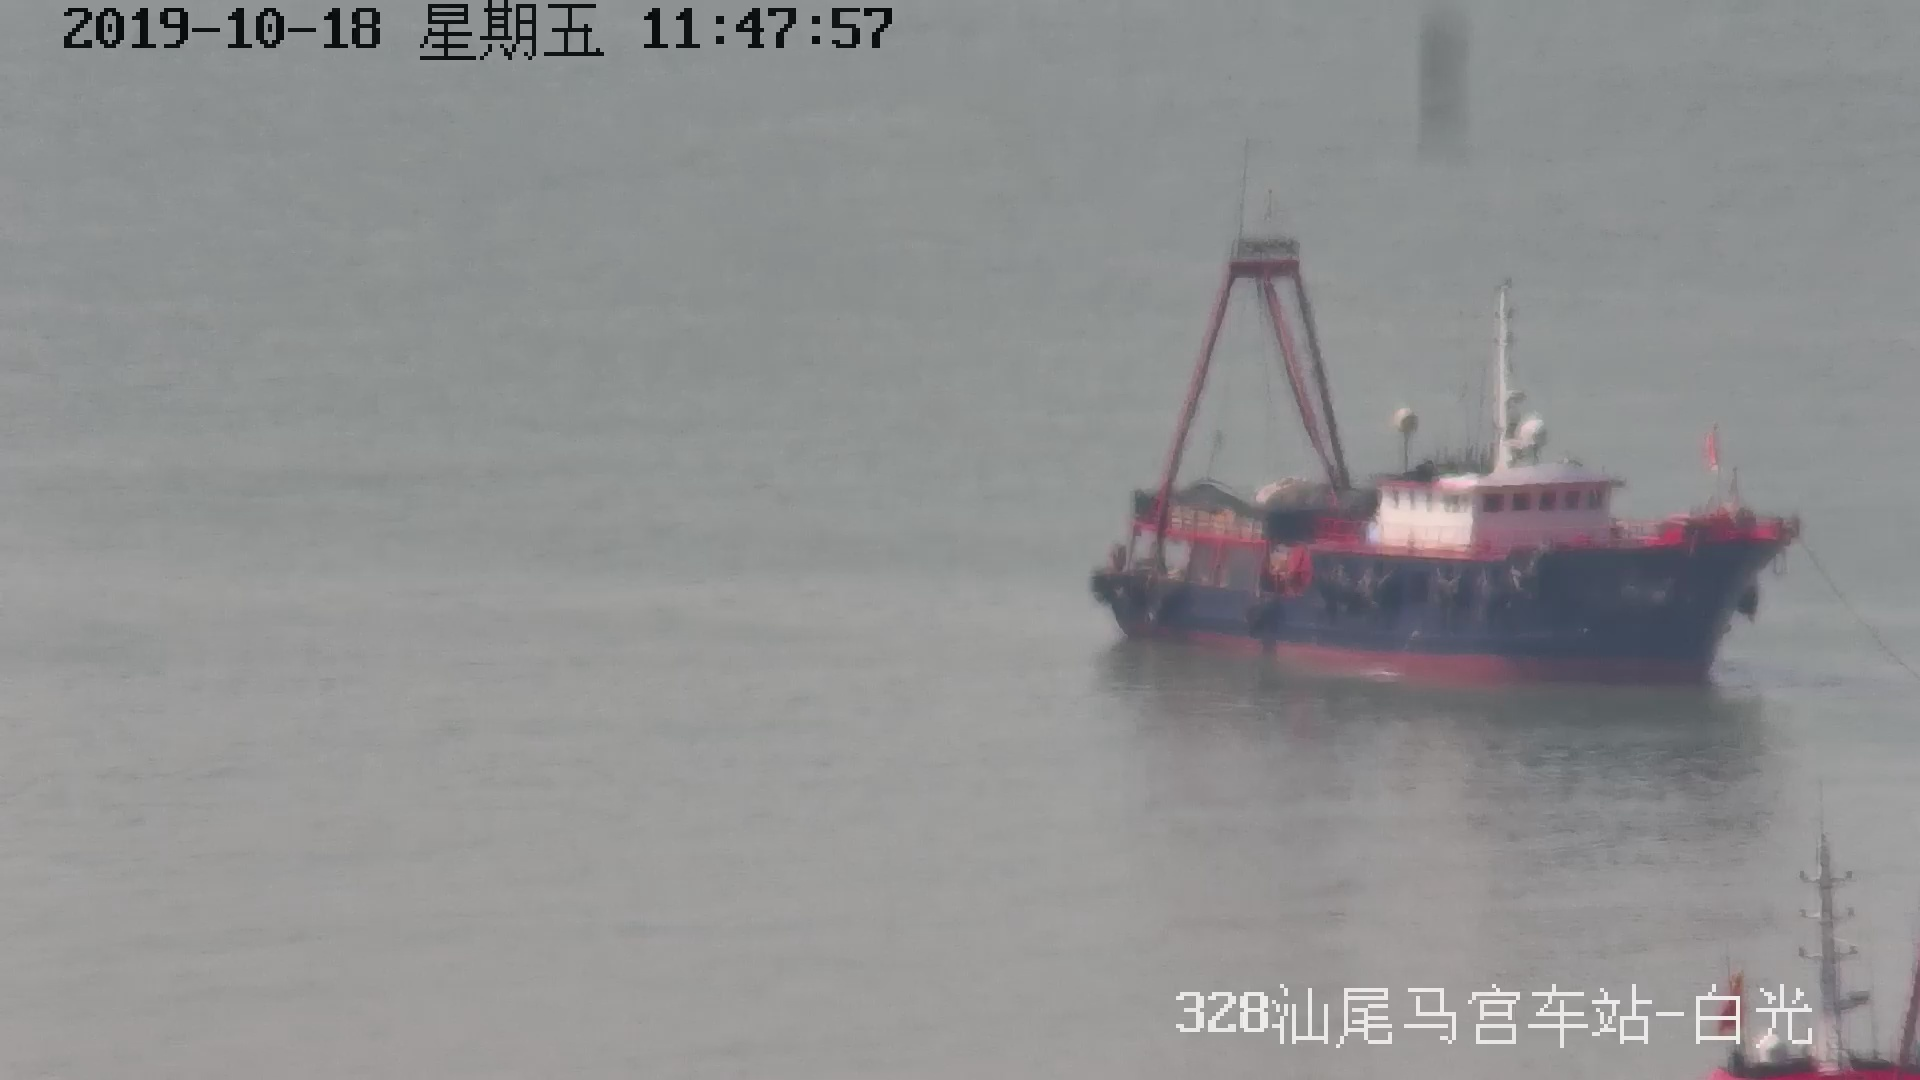ship: (1077, 200, 1807, 684)
